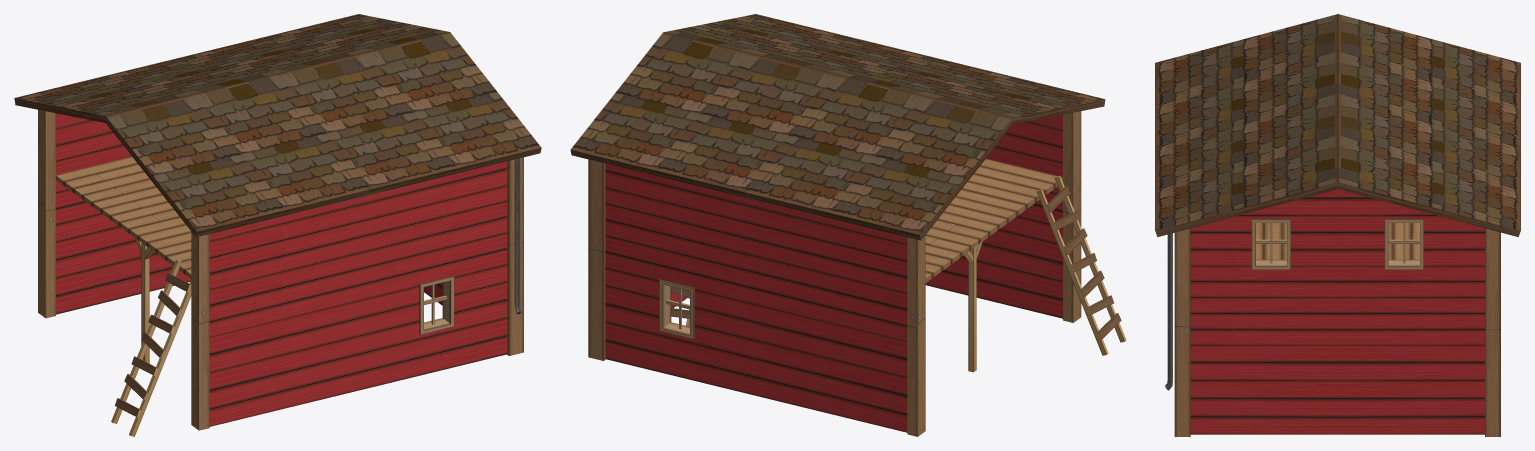
Rendered from House_07.FBX.
The picture shows the model from 3 angles, left to right: view 1: azimuth 30°, elevation 25°; view 2: azimuth 150°, elevation 25°; view 3: azimuth 270°, elevation 25°; orthographic projection.
Parts seen in each view (by area): view 1: Wall, Roof, Ladder_01; view 2: Wall, Roof, Ladder_01; view 3: Wall, Roof.
Part boxes in pixels (box(x1,y1,x2,y2)): Wall: box(38, 109, 523, 430); Roof: box(14, 14, 541, 237); Ladder_01: box(111, 259, 191, 436); Wall: box(588, 111, 1081, 436); Roof: box(570, 14, 1105, 240); Ladder_01: box(1036, 176, 1126, 355); Wall: box(1165, 189, 1500, 436); Roof: box(1155, 14, 1520, 236).
Size of the model in its own units: 10.77 by 6.93 by 8.79.
